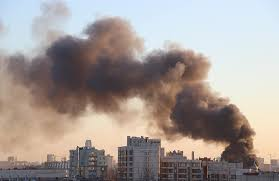smoke: (4, 10, 270, 170)
